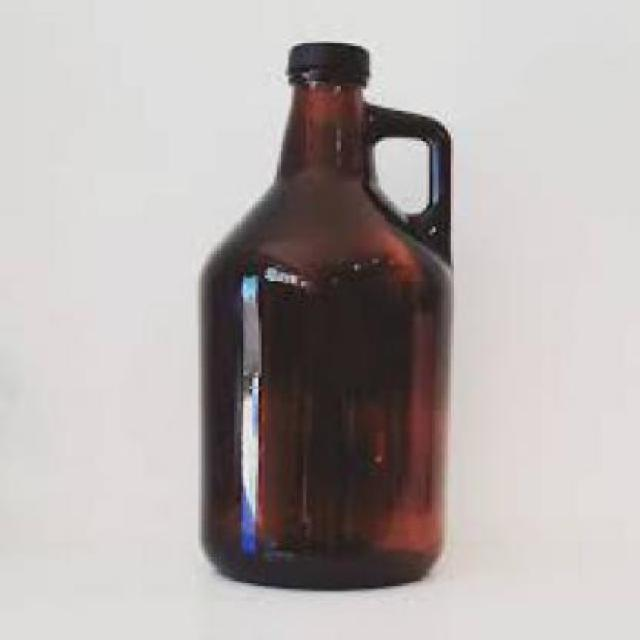kaca: (198, 68, 454, 589)
